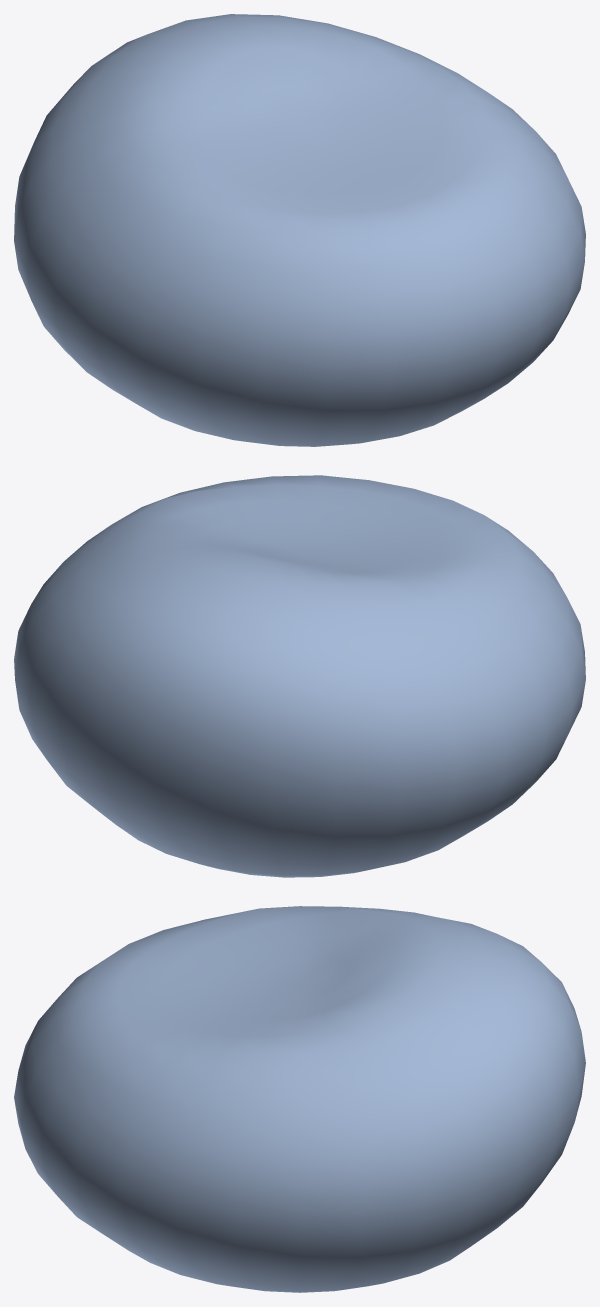
Rendered from SM_RecoveryBeanBag_Realistic.obj.
3 views of the same model, one above another, from view 1: azimuth 30°, elevation 25°; view 2: azimuth 150°, elevation 25°; view 3: azimuth 270°, elevation 25° (orthographic). The views are drawn at different scales.
Visible parts, largest first — view 1: SM_RecoveryBeanBag; view 2: SM_RecoveryBeanBag; view 3: SM_RecoveryBeanBag.
Part boxes in pixels (x1,y1,x2,y2): SM_RecoveryBeanBag: (14, 14, 585, 446); SM_RecoveryBeanBag: (14, 475, 585, 877); SM_RecoveryBeanBag: (14, 906, 585, 1292).
Bounding box in the file's own units: 1 × 0.5959 × 1.05.
